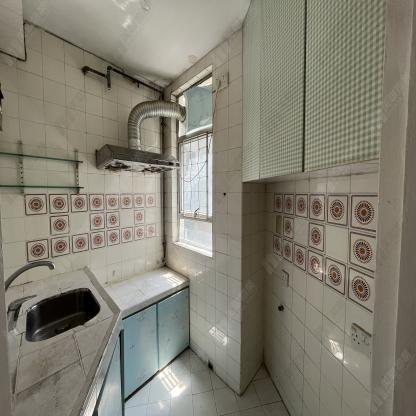Cupboard: (120, 288, 191, 400)
Exhaust Hood: (95, 99, 188, 174)
Faucet: (3, 253, 59, 284)
Sink: (24, 285, 100, 341)
